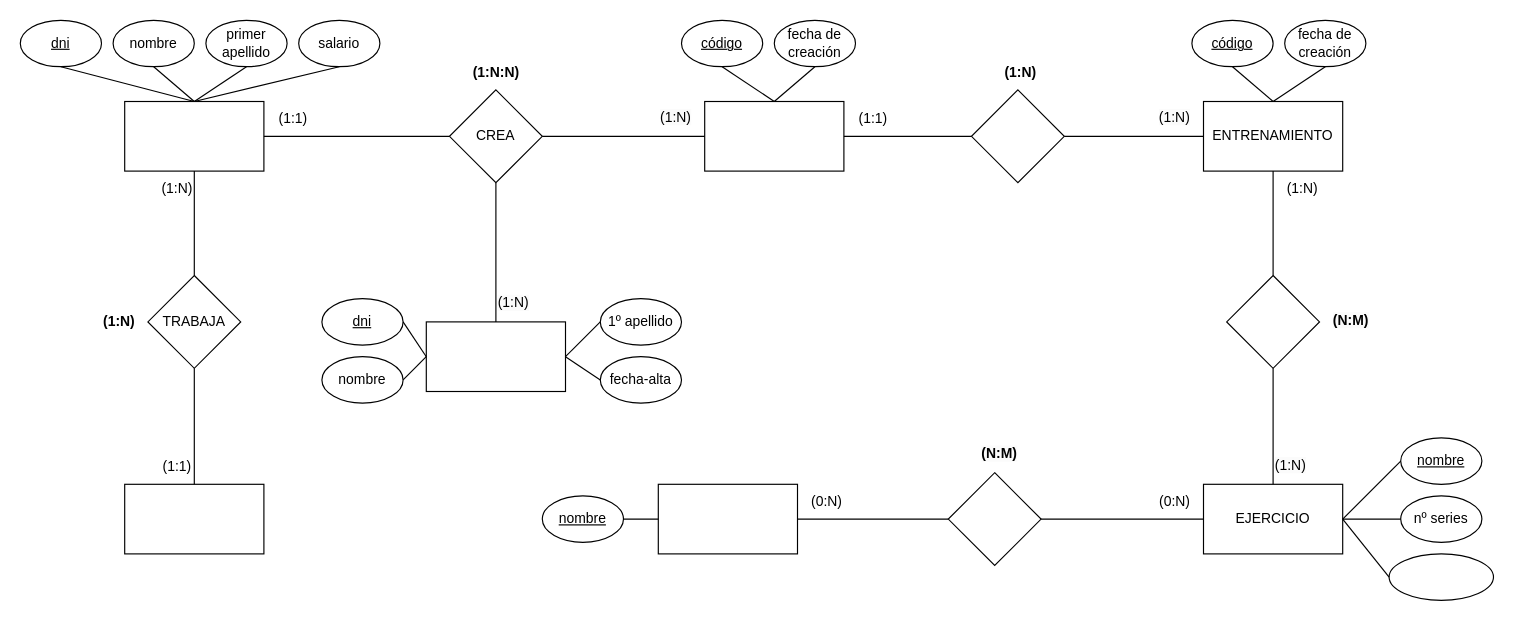
This 1514x621 diagram has some shape labels left out. Each missing label, with the centre of its shape:
CLIENTE: [495,356]
ENTRENADOR: [194,135]
FORMADA: [1017,136]
FORMADO POR: [1273,321]
GIMNASIO: [194,518]
MATERIAL: [727,518]
nº repeticiones: [1441,576]
PLANIFICACIÓN: [774,135]
UTILIZA: [994,519]
